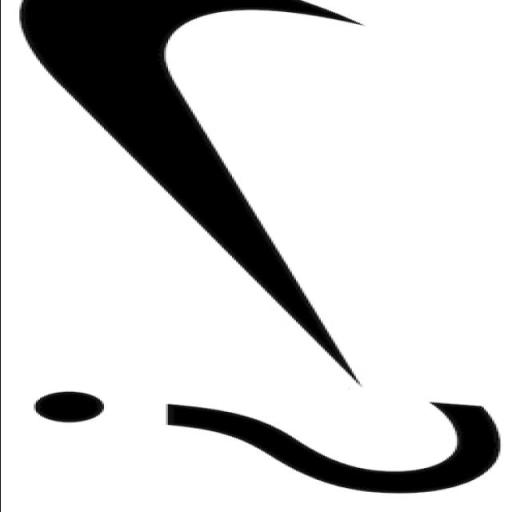Nike: (16, 0, 362, 384)
